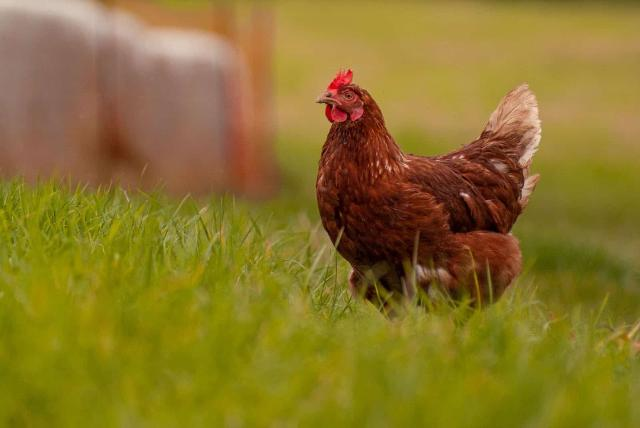Chicken: (314, 68, 543, 319)
